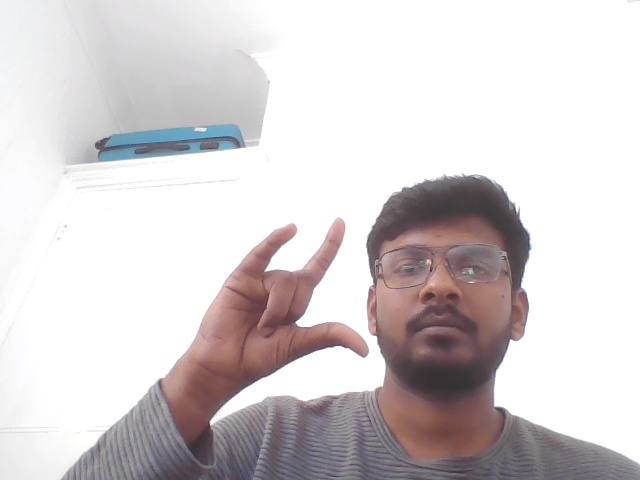ILoveYou: (156, 181, 374, 441)
